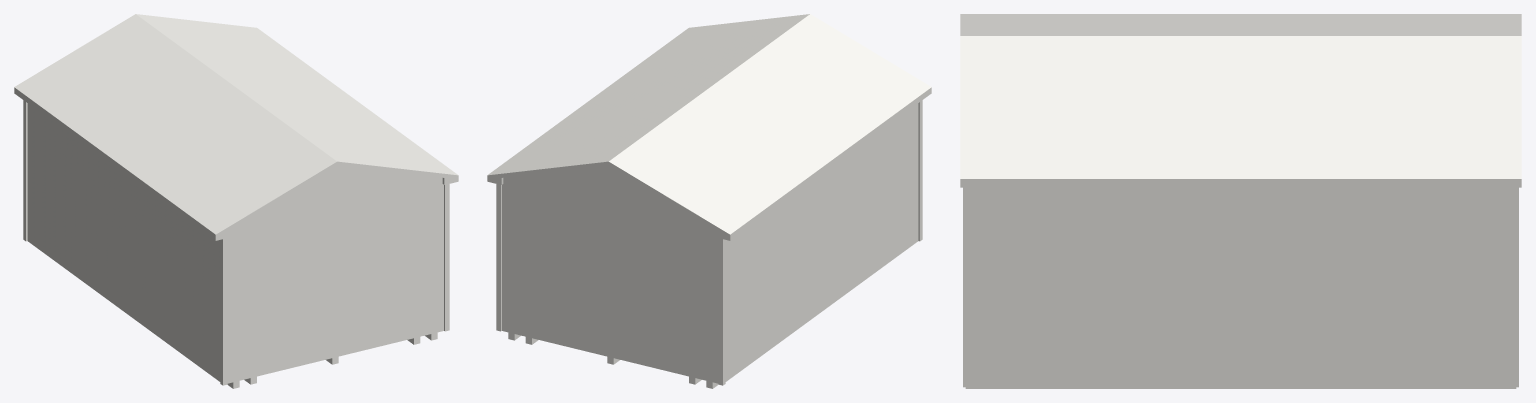
The model's file is 8 wide A-frame_7ft_12x18.obj.
The picture shows the model from 3 angles, left to right: view 1: azimuth 30°, elevation 25°; view 2: azimuth 150°, elevation 25°; view 3: azimuth 270°, elevation 25°; orthographic projection. The views are drawn at different scales.
Parts seen in each view (by area): view 1: Shed, Roof, Sides, Trim; view 2: Shed, Roof, Sides, Trim; view 3: Shed, Roof, Sides, Trim, Floor.
Part boxes in pixels (x1,y1,x2,y2): Shed: (27, 103, 443, 383); Roof: (14, 14, 457, 234); Sides: (14, 87, 458, 240); Trim: (23, 100, 449, 385); Shed: (502, 103, 918, 383); Roof: (488, 14, 931, 234); Sides: (487, 87, 931, 240); Trim: (496, 100, 922, 385); Shed: (970, 187, 1511, 386); Roof: (960, 14, 1521, 178); Sides: (960, 179, 1521, 187); Trim: (963, 187, 1518, 387); Floor: (965, 386, 1516, 388).
Bounding box in the file's own units: 3.89 × 3.12 × 5.59.
